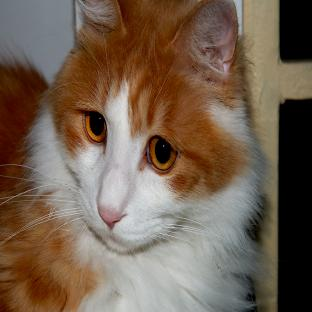Animal: (0, 0, 267, 312)
